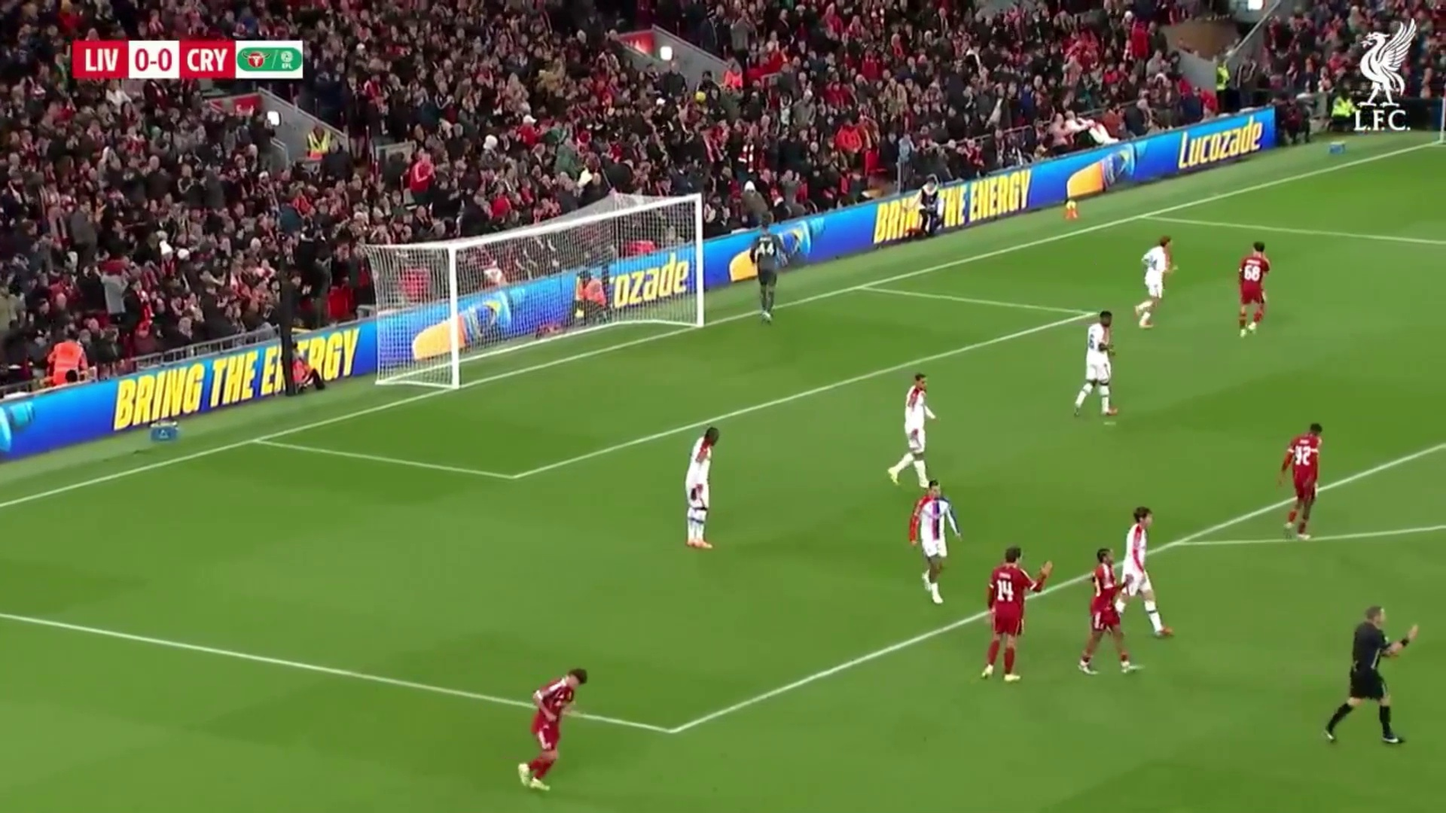player: (1323, 604, 1422, 749), (978, 547, 1045, 684), (518, 667, 587, 792), (1077, 547, 1140, 677), (1122, 506, 1174, 640), (909, 477, 961, 605), (1279, 423, 1324, 539), (1072, 315, 1117, 420), (1119, 557, 1174, 640), (684, 424, 718, 550), (897, 373, 934, 486), (1136, 236, 1175, 330), (1236, 241, 1272, 336), (751, 236, 780, 322)
